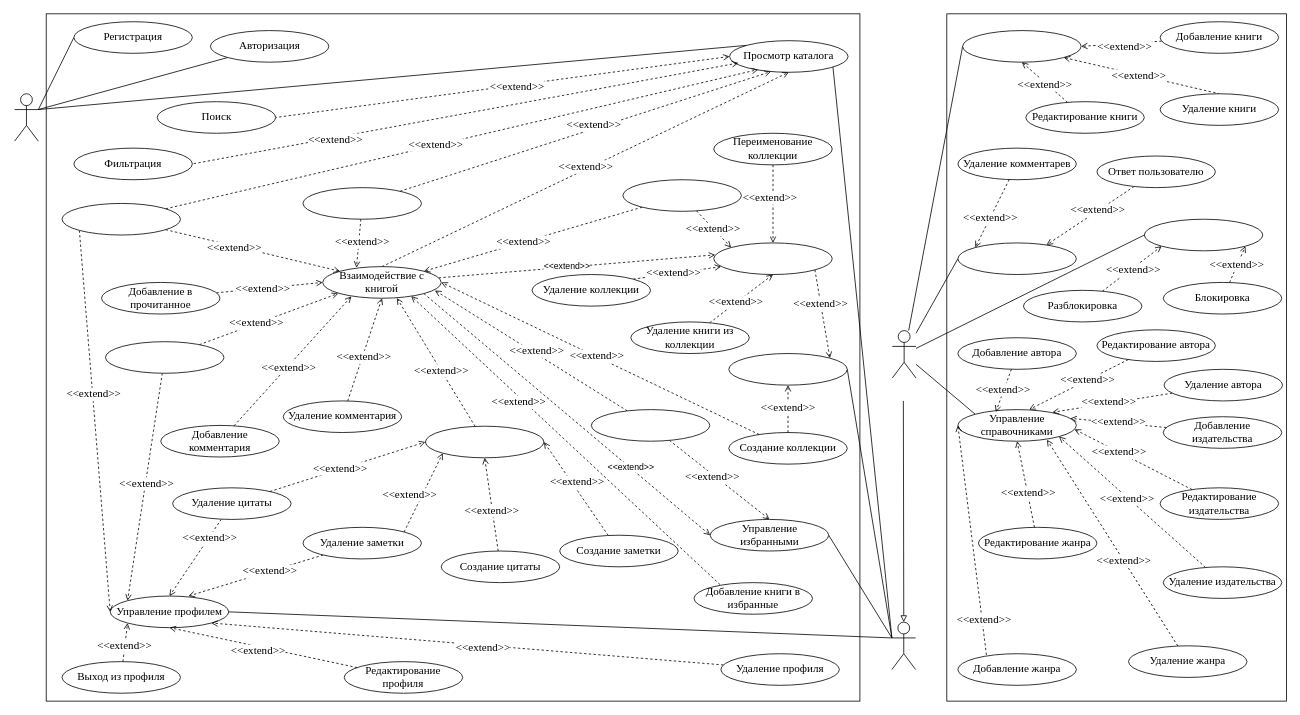
Image size: 1300x715. Some labels were removed from this diagram. The shapes that lost their labels are listed below. From the top down, each one's box as (x1, y1, x2, y2) in pixels, then its label:
(962, 30, 1081, 62): Управление книгами
(14, 93, 38, 141): Гость
(302, 187, 421, 219): Добавление книги в библиотеку
(622, 179, 741, 211): Добавление книги в коллекцию
(61, 203, 181, 235): Удаление из библиотеки
(1144, 218, 1263, 251): Управление пользователями
(713, 242, 832, 275): Управление коллекцией
(957, 242, 1076, 275): Упраление комментариями
(105, 341, 224, 373): Удаление из прочитанного
(728, 353, 847, 385): Управление коллекциями
(892, 330, 916, 378): Администратор
(425, 425, 544, 458): Чтение книги
(591, 409, 710, 441): Удаление книги из избранных
(891, 621, 916, 670): Пользователь
